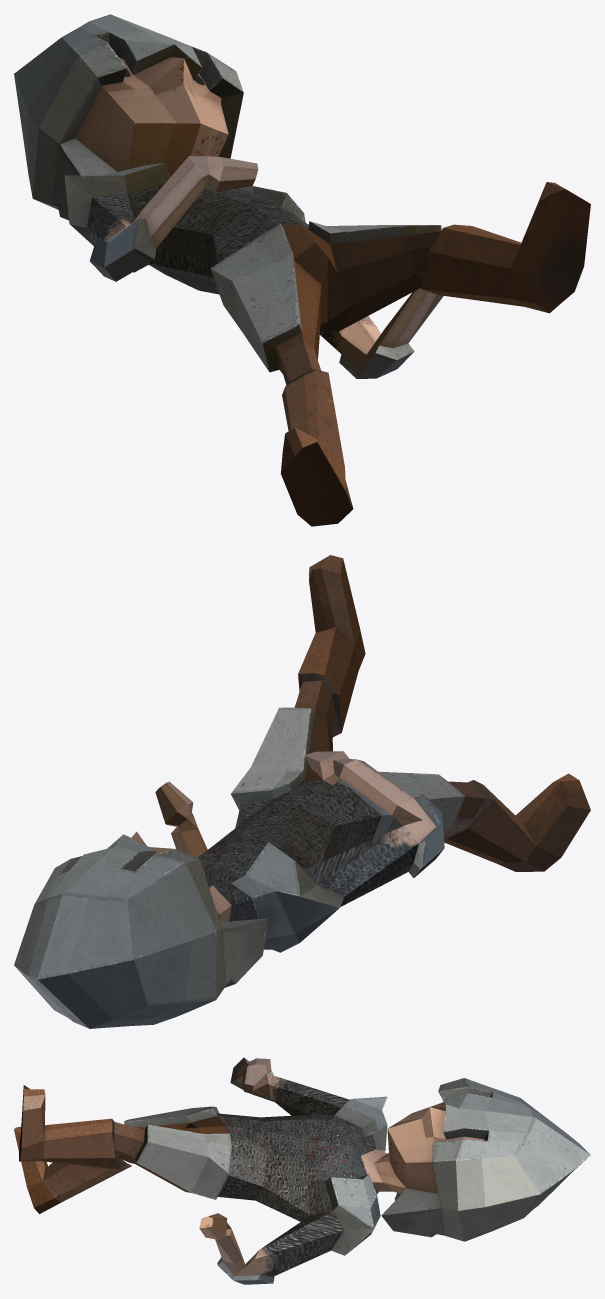
The model's file is Walk_Soldier_17.obj.
3 views of the same model, one above another, from view 1: azimuth 30°, elevation 25°; view 2: azimuth 150°, elevation 25°; view 3: azimuth 270°, elevation 25° (orthographic). The views are drawn at different scales.
Visible parts, largest first — view 1: Soldado_LowPolySTD; view 2: Soldado_LowPolySTD; view 3: Soldado_LowPolySTD.
Part boxes in pixels (x1,y1,x2,y2): Soldado_LowPolySTD: [14, 14, 590, 526]; Soldado_LowPolySTD: [14, 555, 590, 1028]; Soldado_LowPolySTD: [14, 1057, 590, 1284].
Size of the model in its own units: 1.4 by 1.15 by 2.93.
